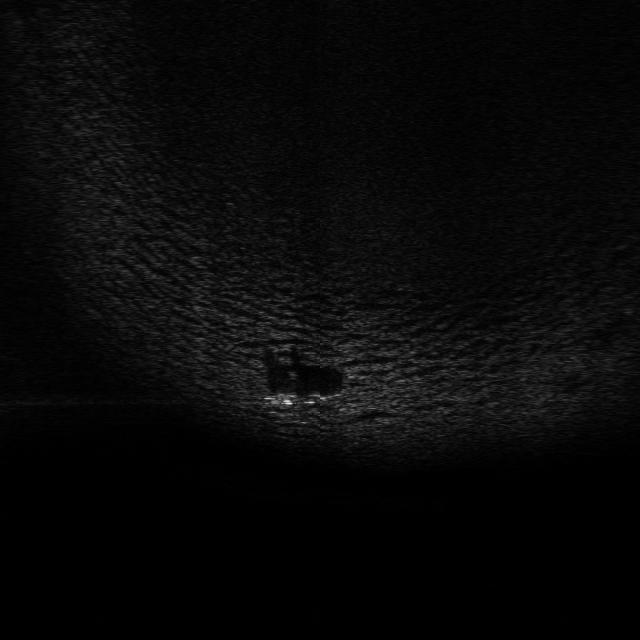plane: (261, 390, 337, 417)
